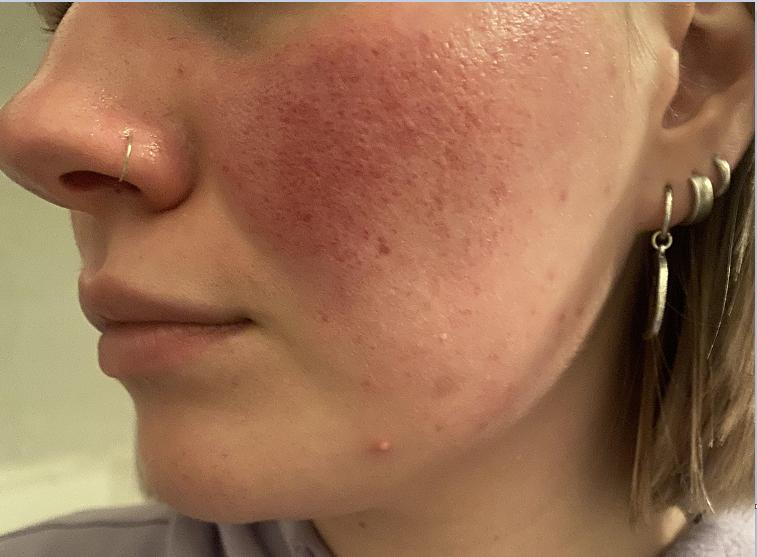Skin-Redness: (246, 20, 501, 290)
